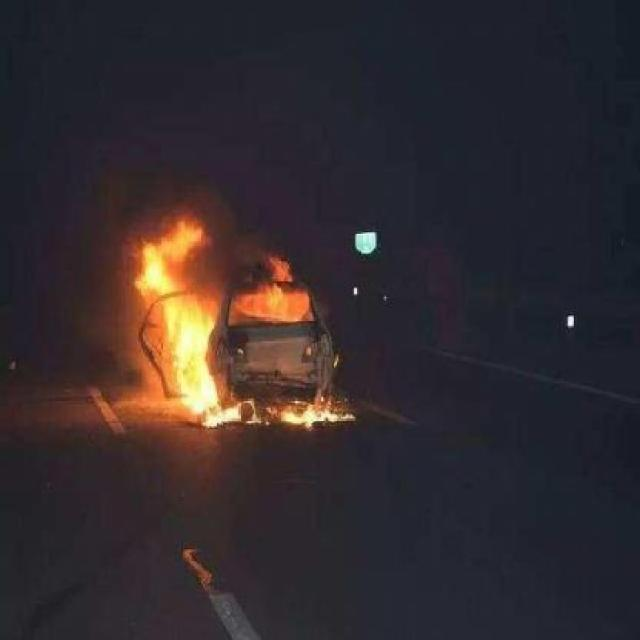Fire: (115, 203, 354, 429)
